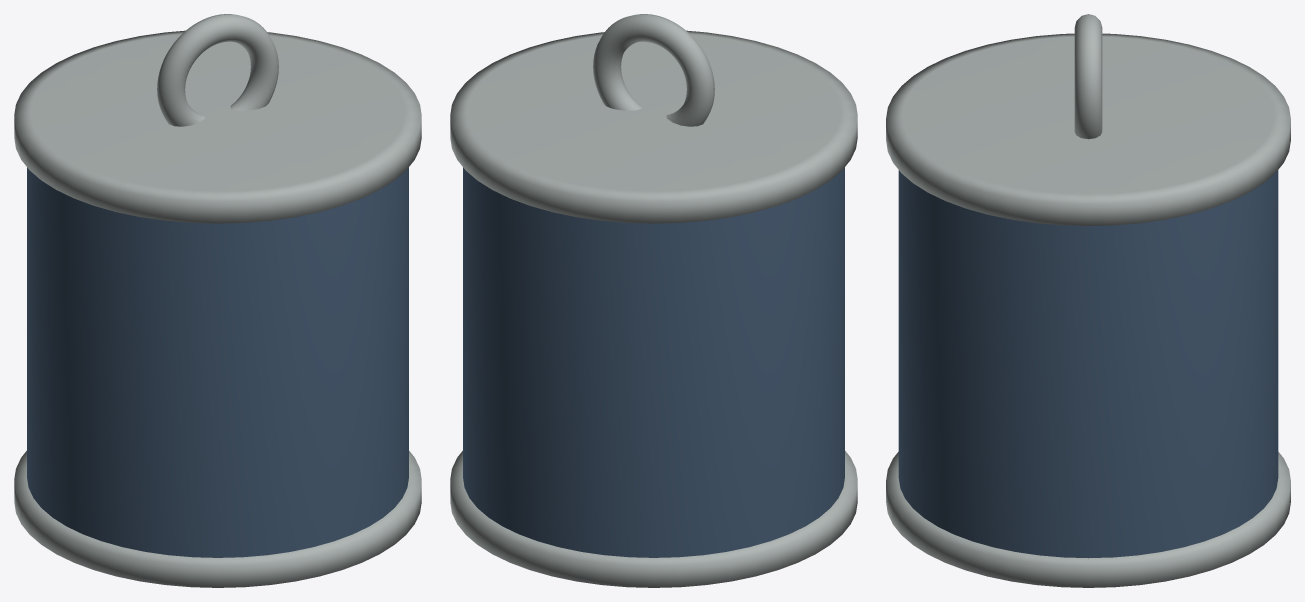
File: spacecraft-parachute-packing-hall-spacecraft-parachute-98239e12__32116.glb
The picture shows the model from 3 angles, left to right: view 1: azimuth 30°, elevation 25°; view 2: azimuth 150°, elevation 25°; view 3: azimuth 270°, elevation 25°; orthographic projection.
Visible parts, largest first — view 1: spacecraft-parachute-packing-hall-deployment-test-mass; view 2: spacecraft-parachute-packing-hall-deployment-test-mass; view 3: spacecraft-parachute-packing-hall-deployment-test-mass.
Boxes of the visible parts, x1,y1,x2,y2 form: spacecraft-parachute-packing-hall-deployment-test-mass: (14, 14, 421, 587); spacecraft-parachute-packing-hall-deployment-test-mass: (450, 14, 857, 587); spacecraft-parachute-packing-hall-deployment-test-mass: (886, 14, 1290, 587).
Size of the model in its own units: 0.64 by 0.847 by 0.64.
